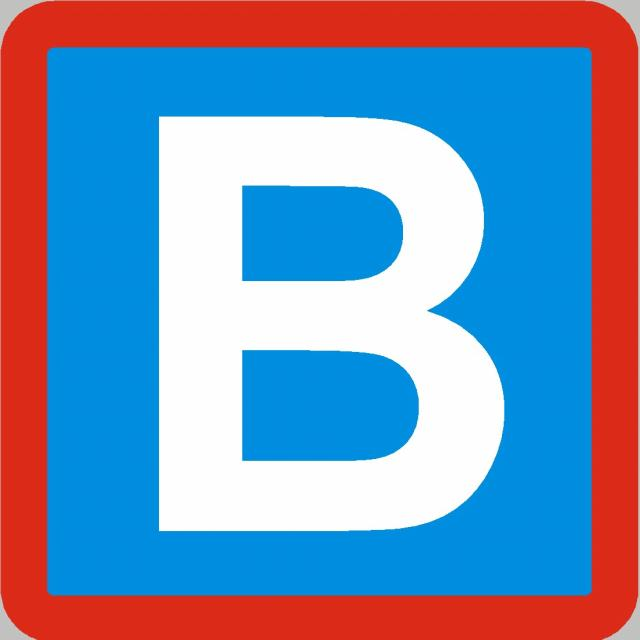B: (106, 58, 551, 563)
